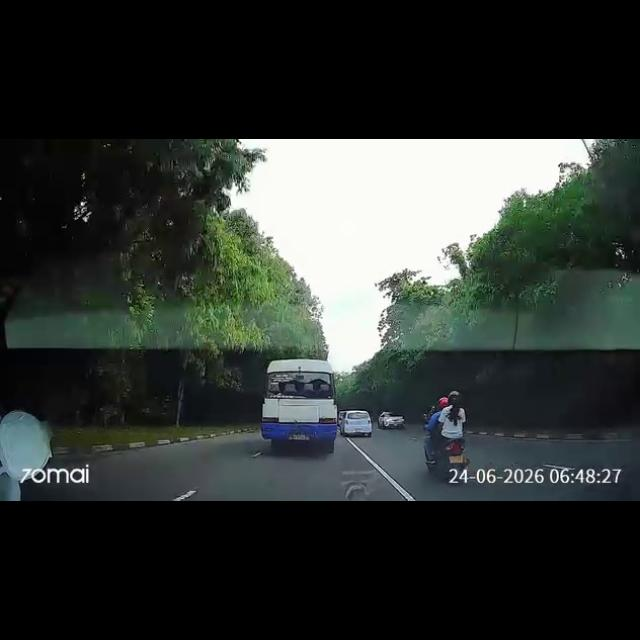bus: (268, 363, 332, 439)
car: (342, 412, 372, 433), (380, 410, 400, 430)
helmet: (452, 392, 462, 404), (438, 398, 449, 408)
motorcycle: (420, 430, 470, 470)
person: (448, 392, 462, 440), (431, 409, 441, 437)
solid_line: (352, 457, 408, 501)
